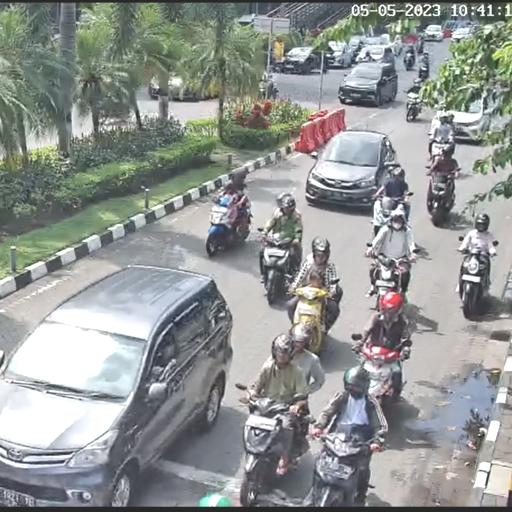mobil: (0, 271, 228, 505), (305, 128, 403, 213), (338, 62, 398, 109)
motor: (233, 384, 318, 508), (308, 423, 378, 512), (350, 332, 413, 410), (284, 277, 340, 356), (257, 226, 305, 308), (457, 235, 501, 321), (365, 238, 416, 312), (207, 188, 254, 257), (366, 183, 418, 234), (424, 162, 464, 226), (426, 128, 454, 180), (402, 89, 423, 124)
